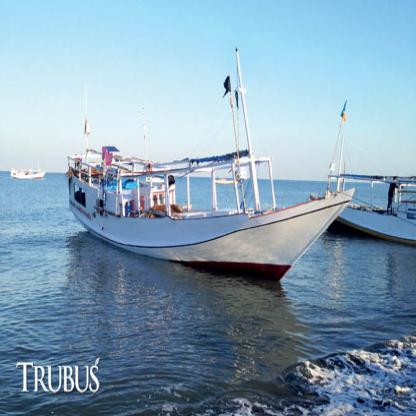fishing boat: (61, 150, 350, 289)
